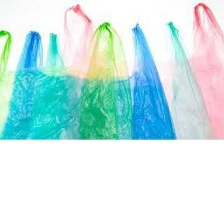plastic_bag: (57, 1, 224, 142), (0, 16, 179, 141), (44, 20, 212, 141), (0, 15, 132, 140)
